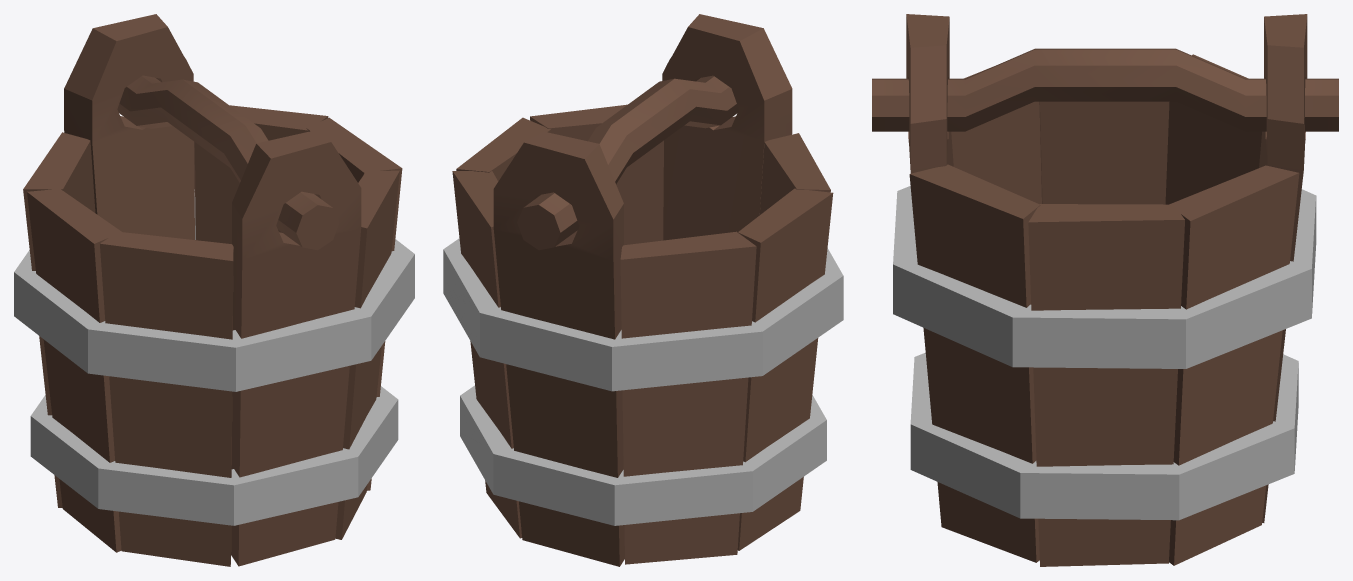
Rendered from bucket.fbx.
The picture shows the model from 3 angles, left to right: view 1: azimuth 30°, elevation 25°; view 2: azimuth 150°, elevation 25°; view 3: azimuth 270°, elevation 25°; orthographic projection. The views are drawn at different scales.
Parts seen in each view (by area): view 1: Bucket; view 2: Bucket; view 3: Bucket.
Boxes of the visible parts, box(x1,y1,x2,y2) form: Bucket: box(14, 14, 414, 566); Bucket: box(443, 14, 843, 566); Bucket: box(872, 14, 1338, 566).
Size of the model in its own units: 57.98 by 70.45 by 63.96.
